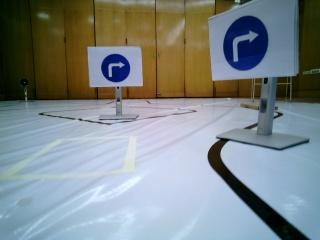right: (209, 11, 293, 76), (88, 47, 140, 87)
